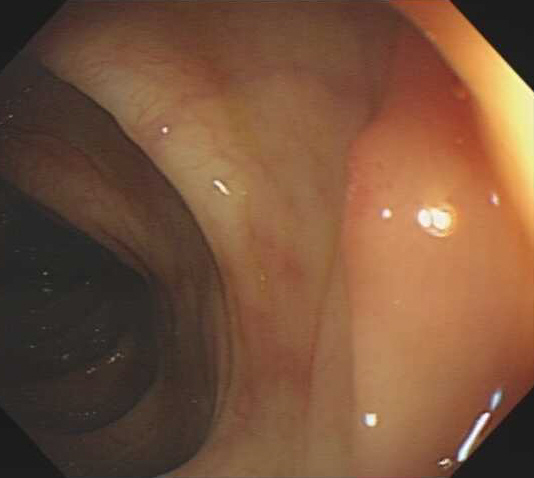others: (341, 110, 454, 304)
